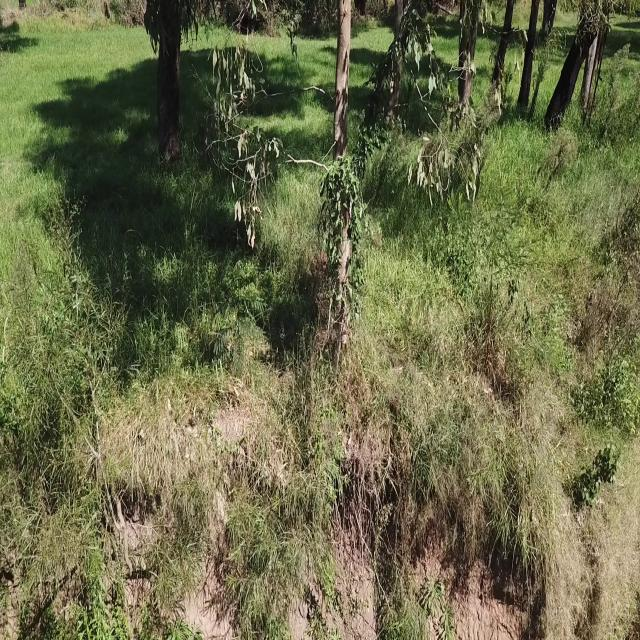Mysore-Thorn-Weed: (206, 252, 275, 388)
